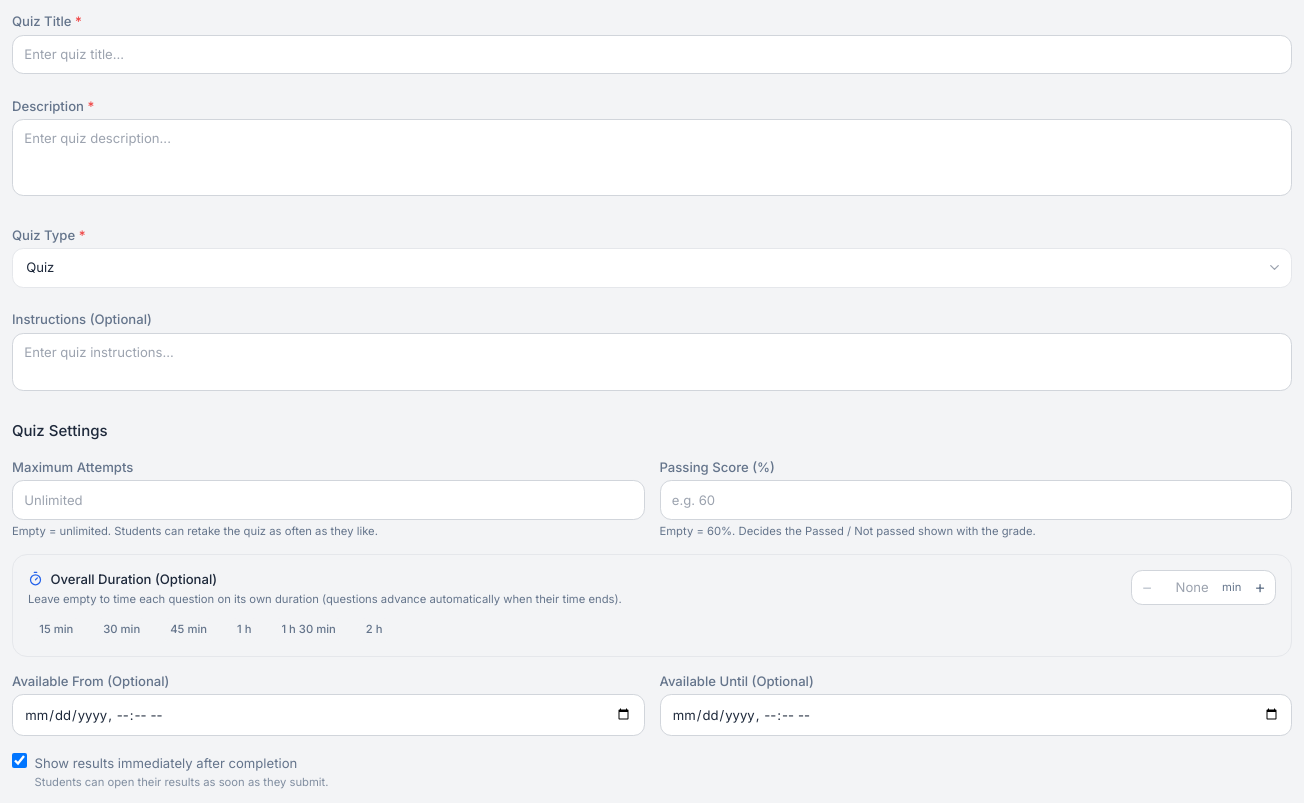
Test case: QuizForm › steps the duration with − / + in 5-minute steps within bounds
The width and height of the screenshot is (1304, 803).
Check: the button named "Decrease duration" is disabled, box 1132,570 -> 1162,604
Click the button named "Increase duration" at (1260, 587), box 1245,570 -> 1275,604
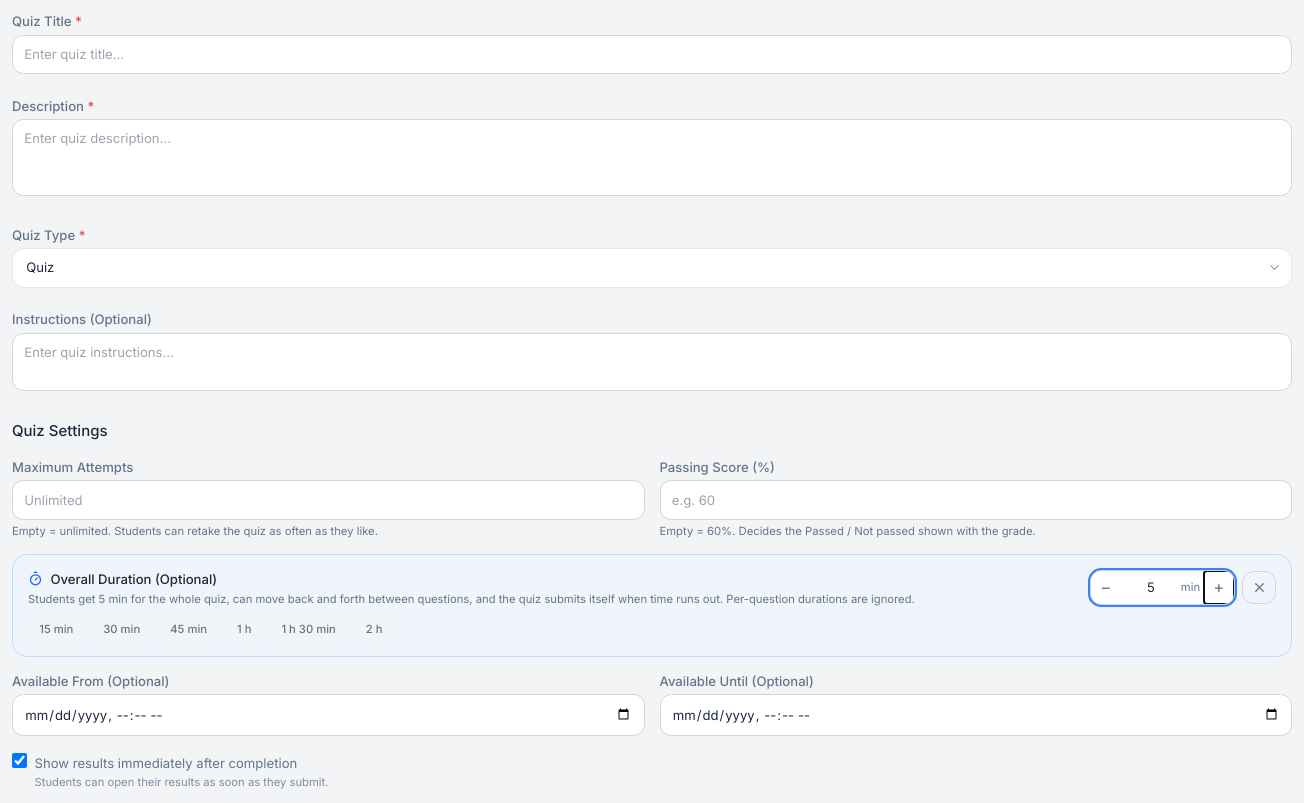
Check: the number field labelled "Overall Duration (Optional)" holds "5", box 1121,570 -> 1181,604
Click the button named "Increase duration" at (1219, 587), box 1204,570 -> 1234,604
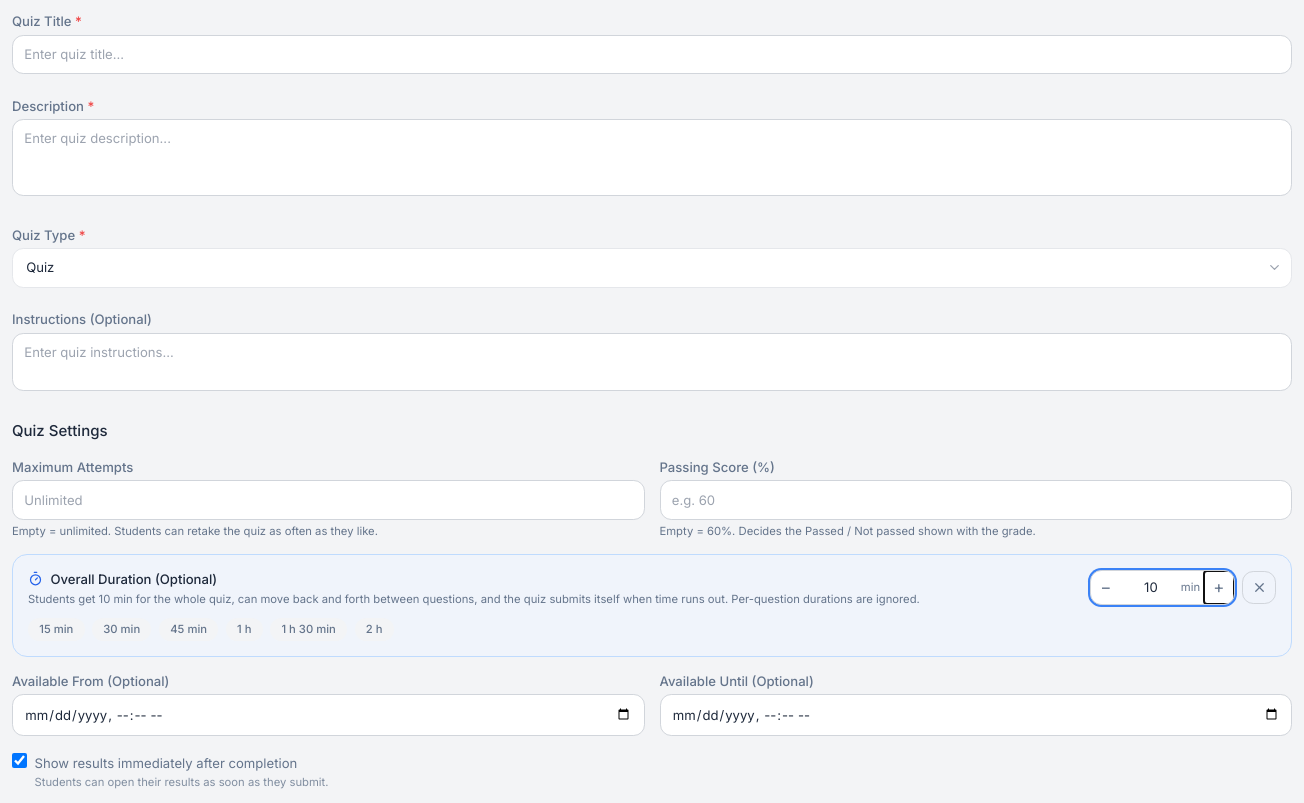
Check: the number field labelled "Overall Duration (Optional)" holds "10", box 1121,570 -> 1181,604
Click the button named "Decrease duration" at (1106, 587), box 1091,570 -> 1121,604
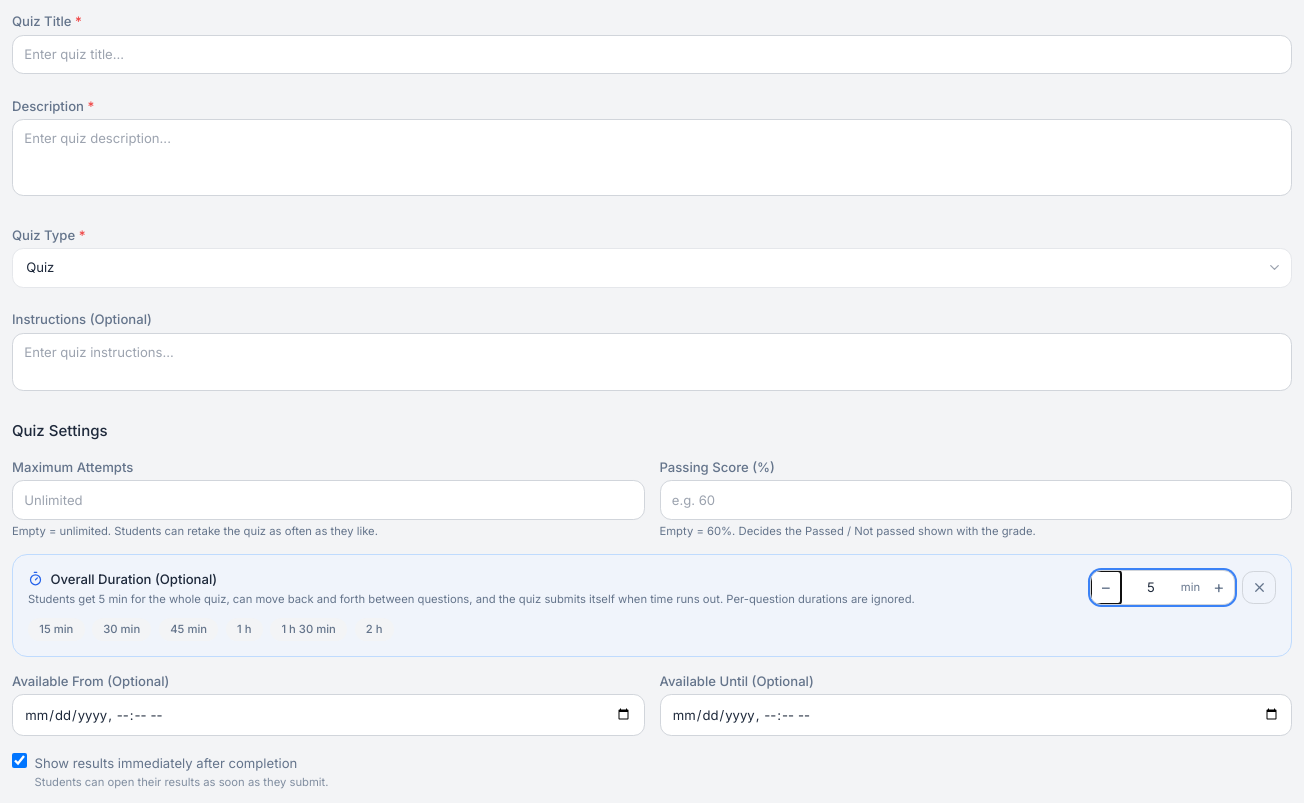
Check: the number field labelled "Overall Duration (Optional)" holds "5", box 1121,570 -> 1181,604
Click the button named "Decrease duration" at (1106, 587), box 1091,570 -> 1121,604
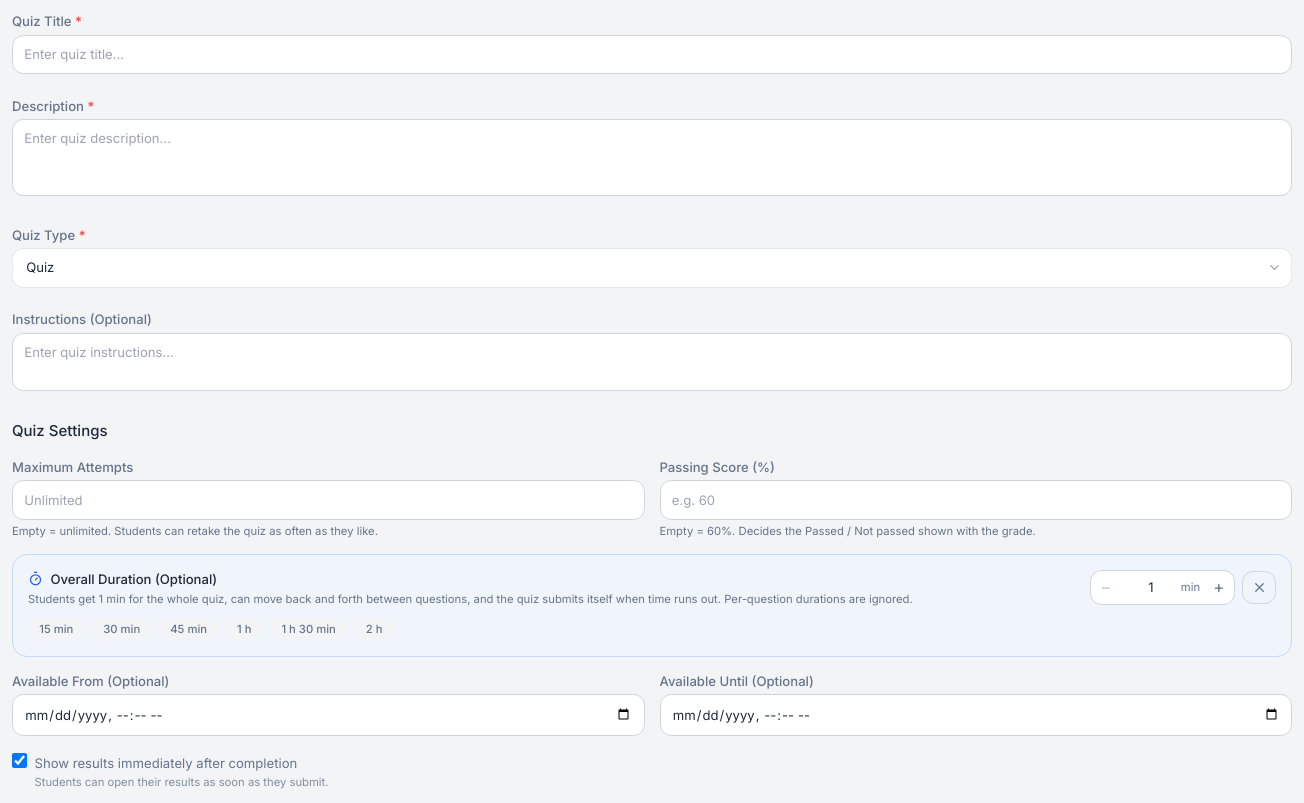
Check: the number field labelled "Overall Duration (Optional)" holds "1", box 1121,570 -> 1181,604
